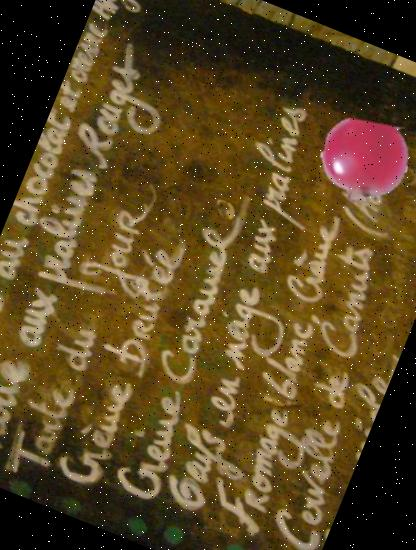Redcurrant: (306, 104, 416, 219)
